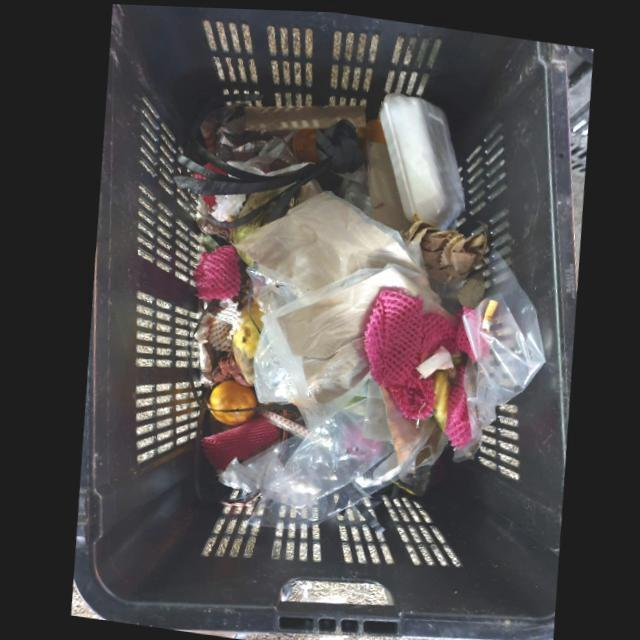plastic_bag: (232, 186, 459, 429), (213, 372, 446, 526), (448, 242, 542, 460)
